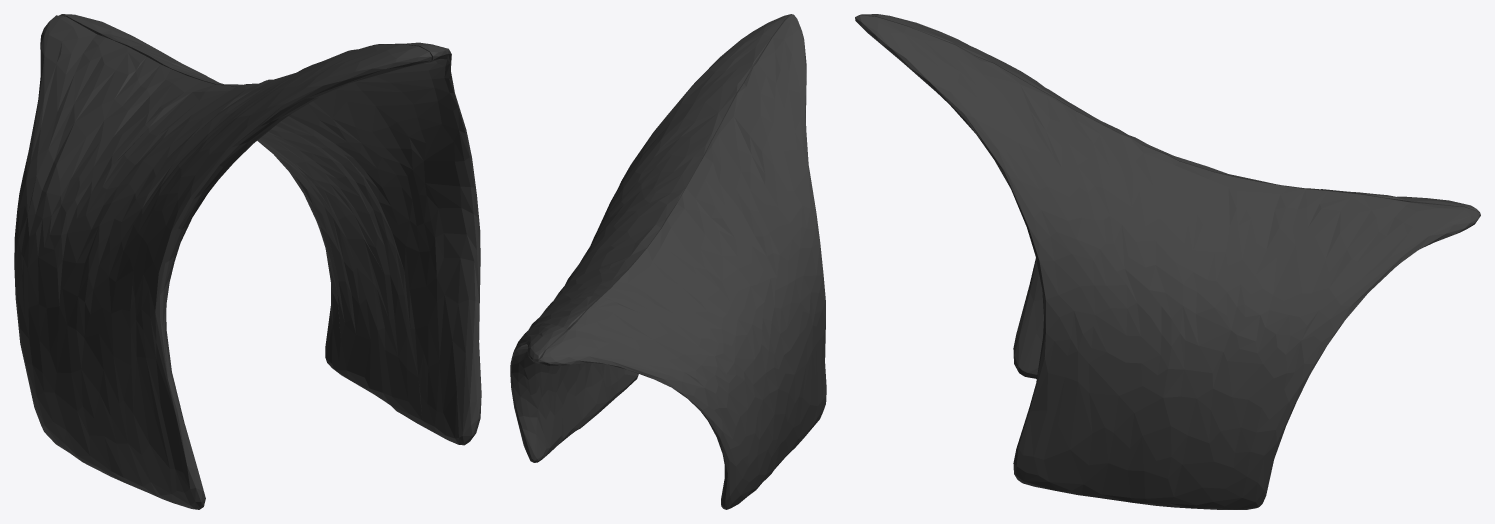
File: m_IAO.glb
3 renders of one model, left to right at view 1: azimuth 30°, elevation 25°; view 2: azimuth 150°, elevation 25°; view 3: azimuth 270°, elevation 25°, orthographic. The views are drawn at different scales.
Parts seen in each view (by area): view 1: m_IAO; view 2: m_IAO; view 3: m_IAO.
Boxes of the visible parts, x1,y1,x2,y2 form: m_IAO: [14, 14, 481, 509]; m_IAO: [510, 14, 826, 509]; m_IAO: [855, 14, 1480, 509].
Bounding box in the file's own units: 0.00335 × 0.00515 × 0.00669.
1 material, 1 textured.
